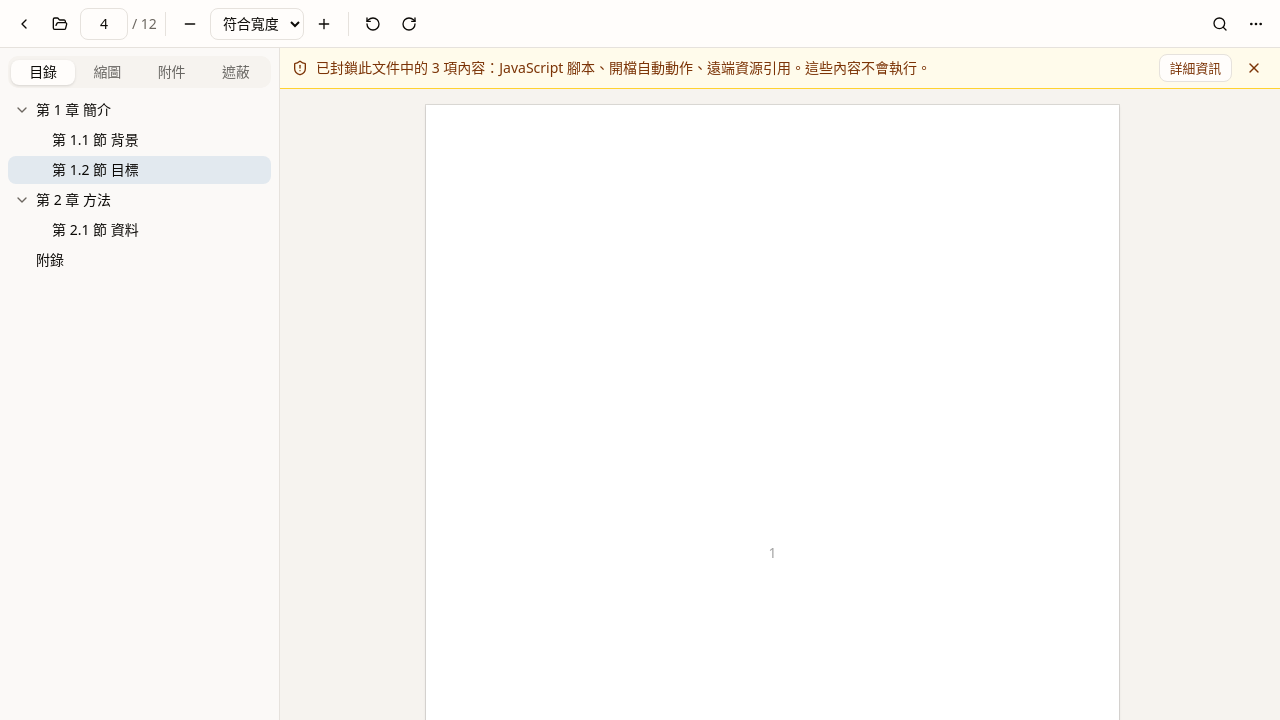
Scenario: encrypting a copy (B2-15) › sends the open password alone, then says it is done
Click the button named "更多": click(1256, 24) 1240,8 -> 1272,40
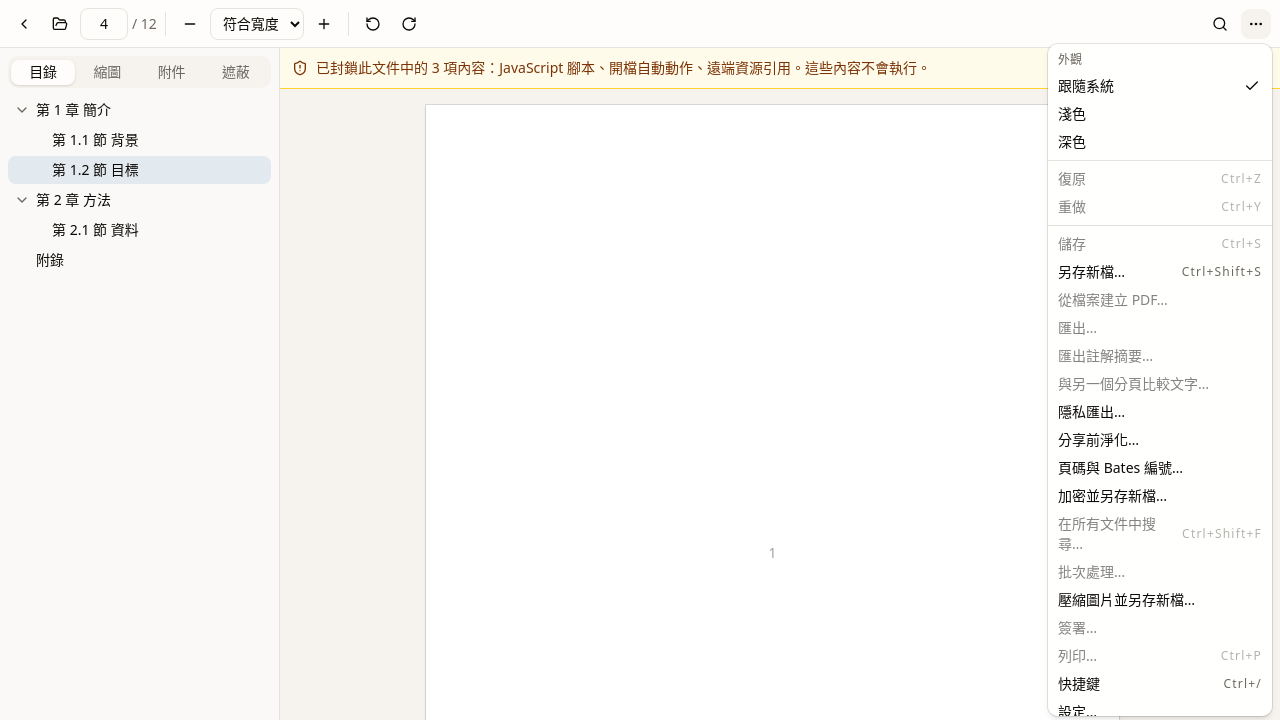
Click the menu item "加密並另存新檔…": click(1113, 496) 1058,486 -> 1167,505
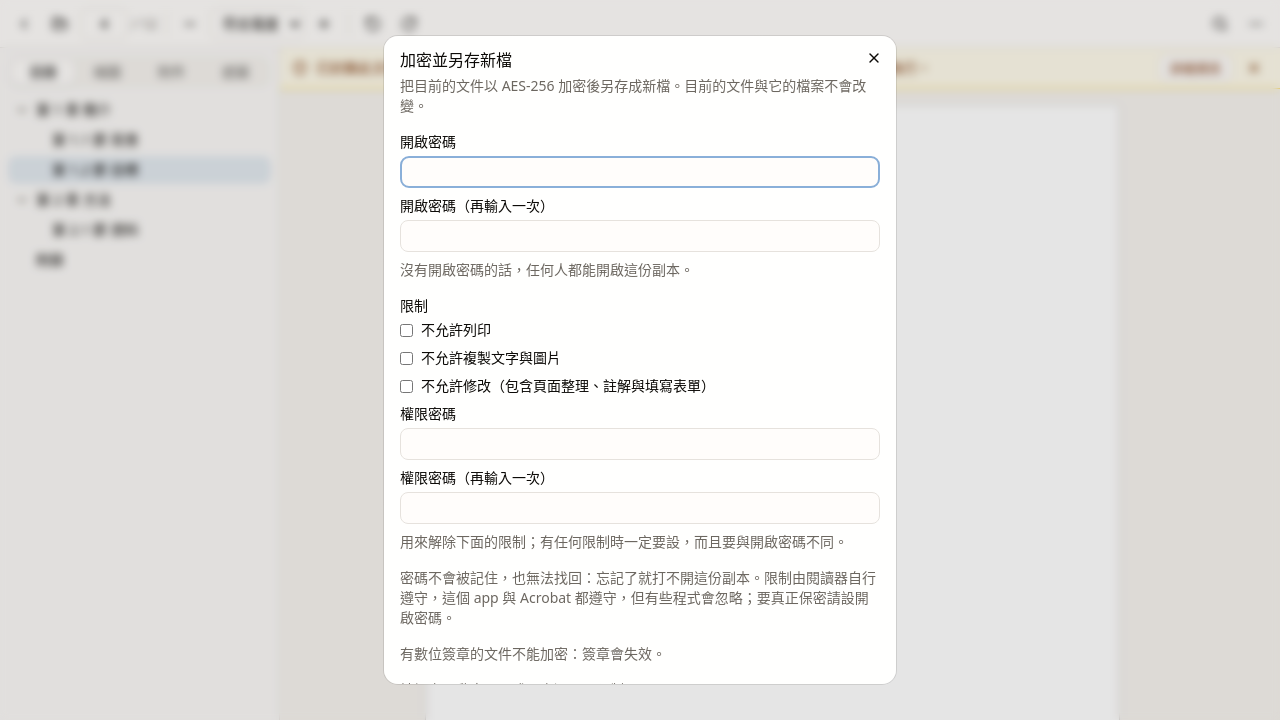
In the password field labelled "開啟密碼": (640, 172) 400,156 -> 880,188, type "secret"
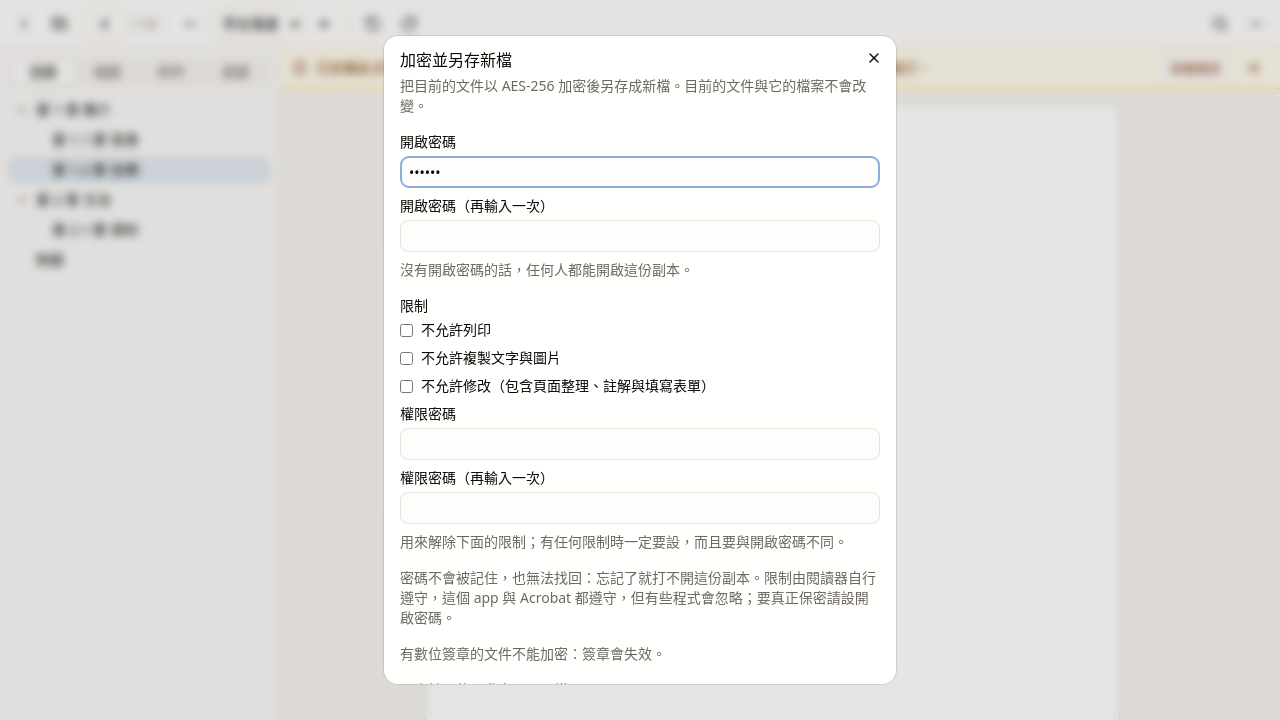
In the password field labelled "開啟密碼（再輸入一次）": (640, 236) 400,220 -> 880,252, type "secret"
(page scrolled)
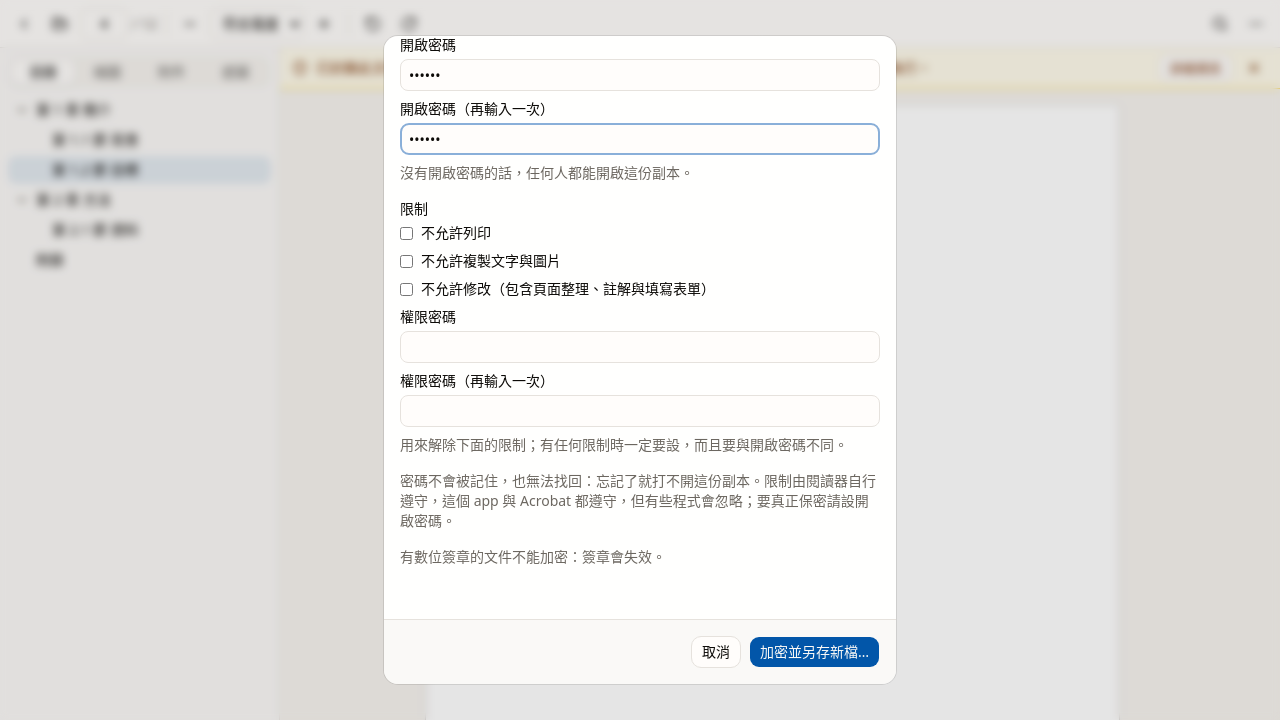
Click the button "加密並另存新檔…": click(814, 652) 749,636 -> 880,668
(page scrolled)
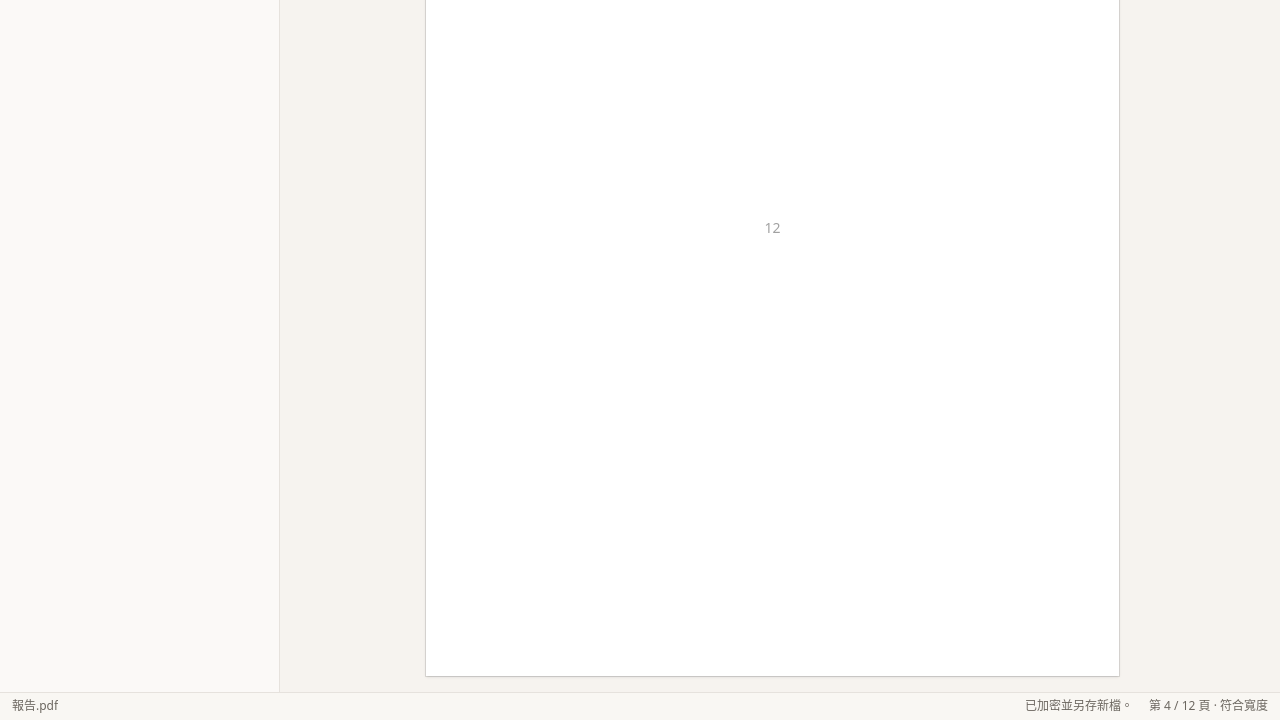
Expected: the dialog is gone
Expected: the footer shows "已加密並另存新檔。", 1025,697 -> 1133,714
